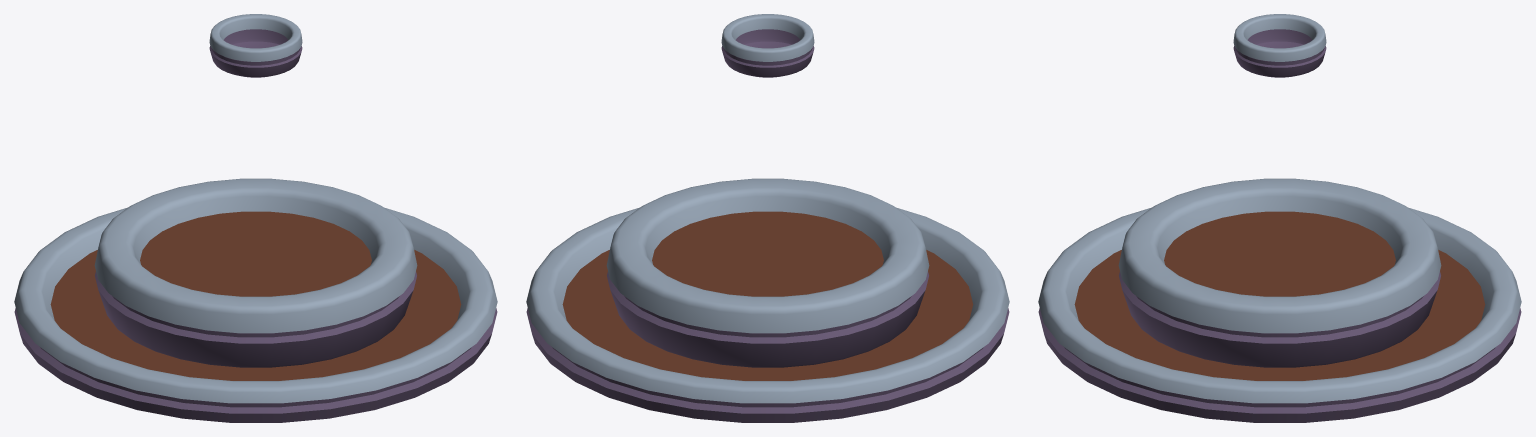
Rendered from FountainBase.fbx.
The picture shows the model from 3 angles, left to right: view 1: azimuth 30°, elevation 25°; view 2: azimuth 150°, elevation 25°; view 3: azimuth 270°, elevation 25°; orthographic projection.
Visible parts, largest first — view 1: FountainBase_LOD0; view 2: FountainBase_LOD0; view 3: FountainBase_LOD0.
Boxes of the visible parts, x1,y1,x2,y2 form: FountainBase_LOD0: (14,14,497,422); FountainBase_LOD0: (526,14,1009,422); FountainBase_LOD0: (1038,14,1521,422).
Size of what is drawn, in the model's own units: 504 by 336 by 507.
